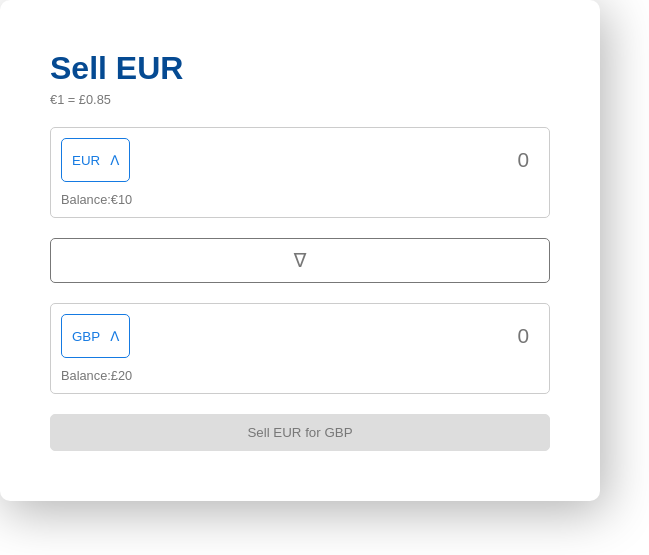
Scenario: Exchange › Shows correct header after exchange action change
What coordinates should you click on to do the following:
click the button with test id "directionButton"
I would click on:
 (300, 260)
Its box is [50,238,550,283].
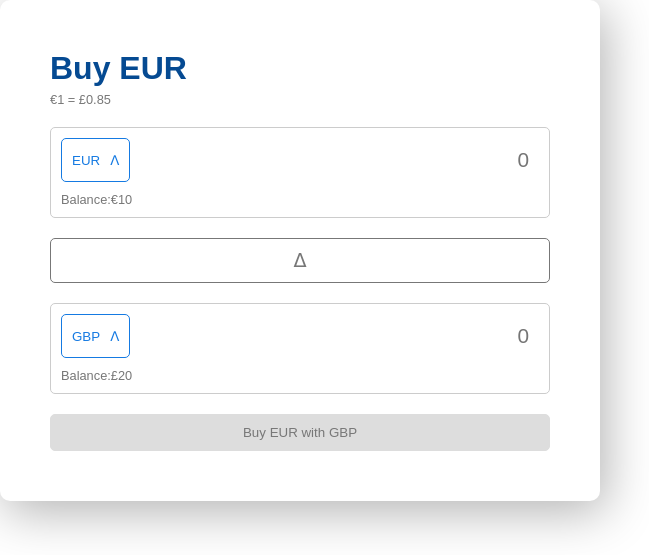
Expected: the heading with test id "header" reads "Buy EUR", [50,50,187,86]
